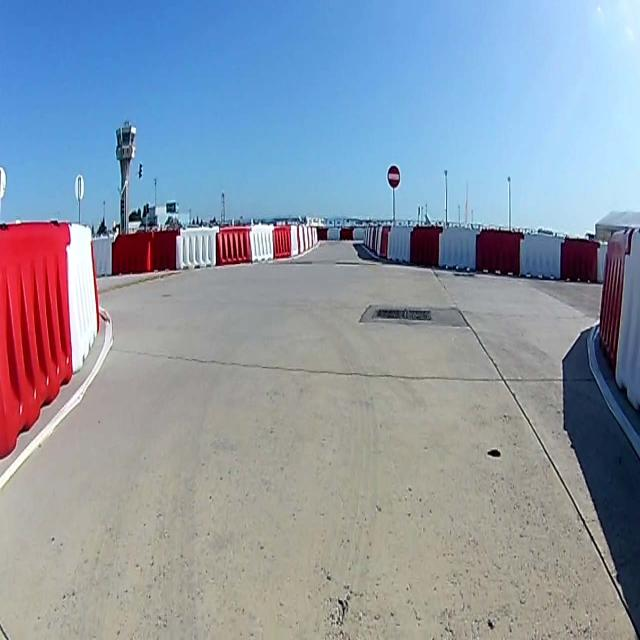girisyok: (386, 160, 401, 188)
